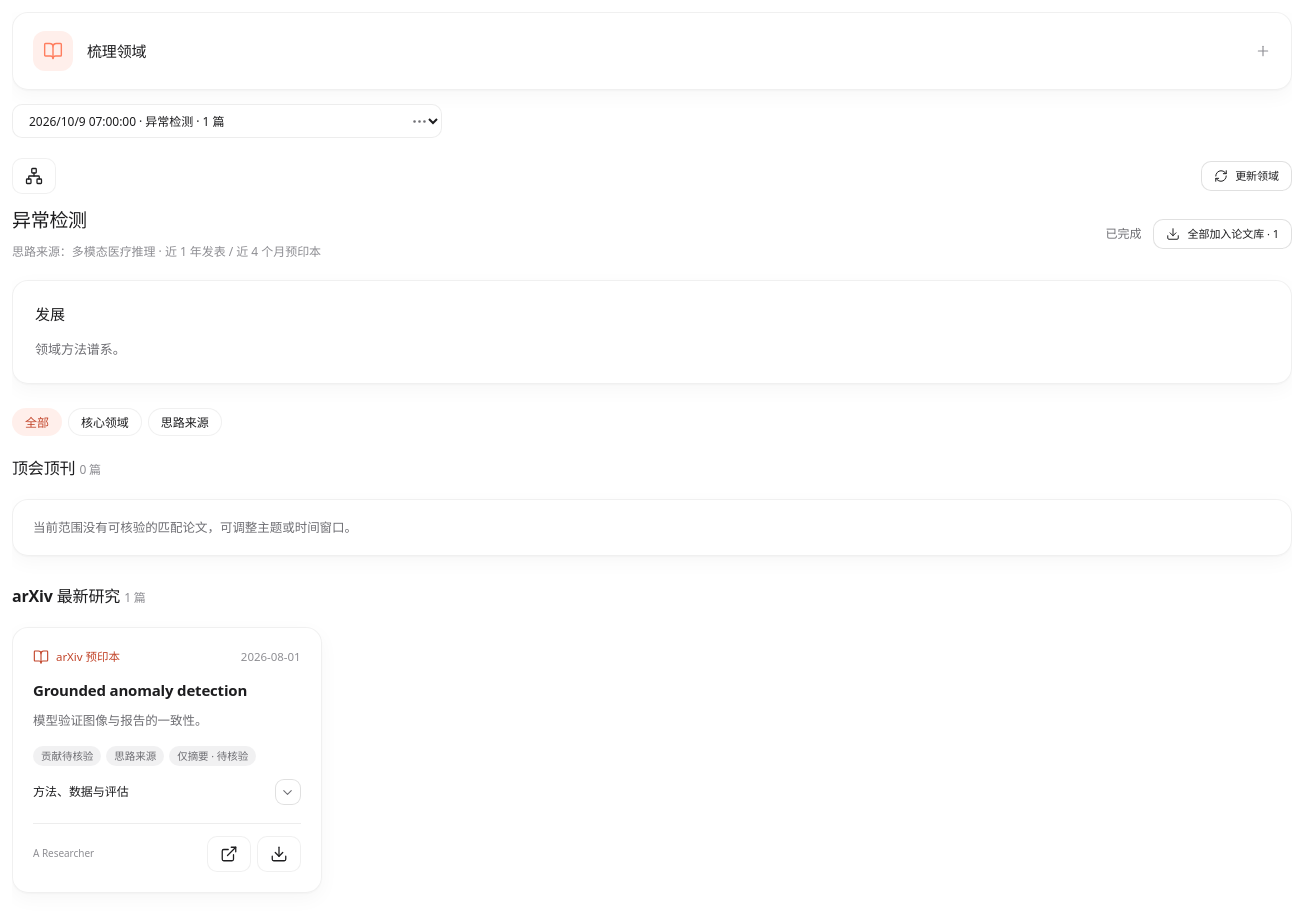
it: research discovery interaction › requires a full custom window before updating
Later steps or results of the test are not shown.
Click the button with class "research-update-trigger" at {"x": 1247, "y": 176}, box [1201,161,1292,191]
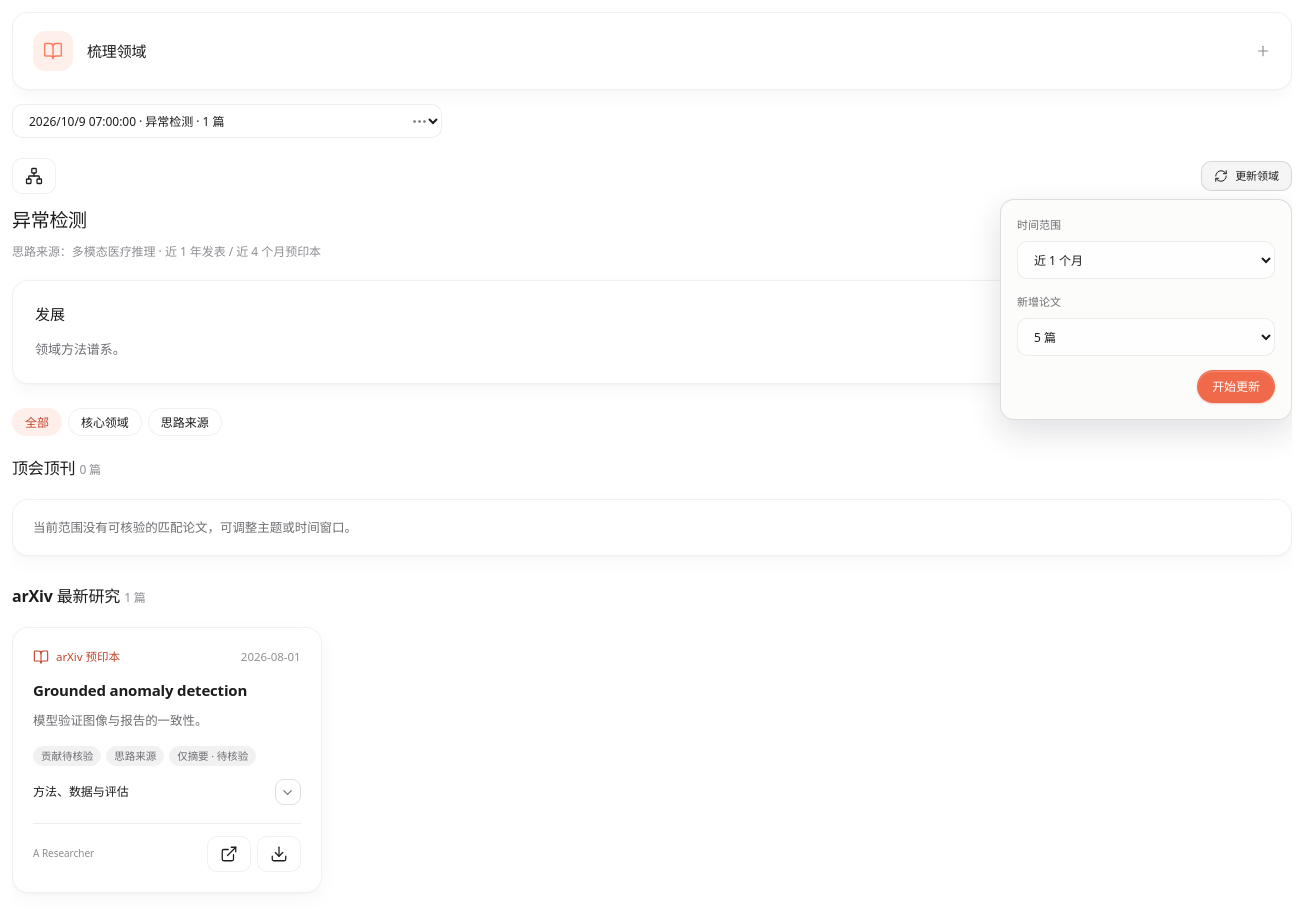
Select "自定义" in the dropdown named "更新时间范围" at {"x": 1146, "y": 260}, box [1017,241,1275,279]
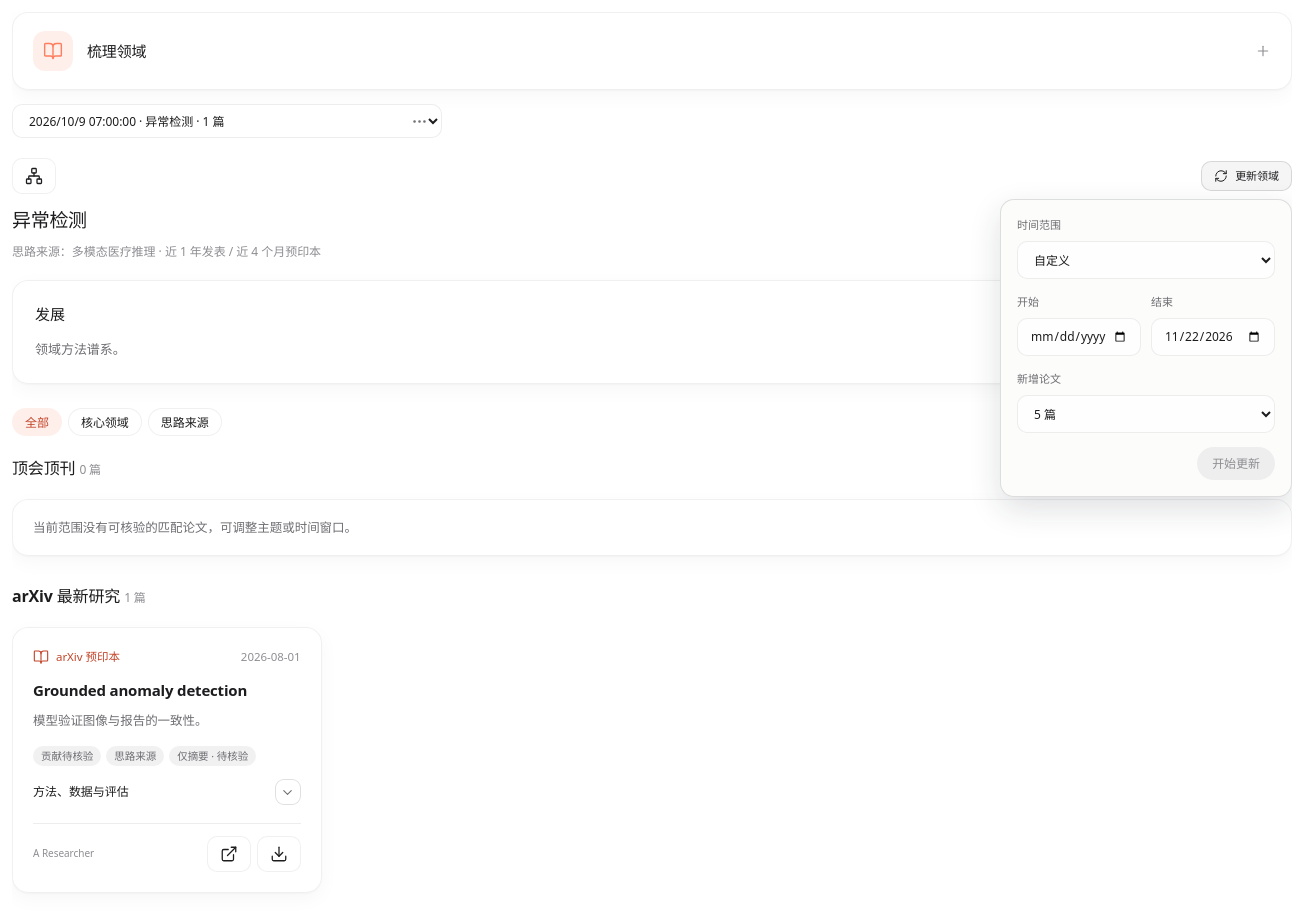
Now the number of date fields is 2, box [1017,318,1141,356]; [1151,318,1275,356]
Now the button "开始更新" is disabled, box [1197,447,1275,480]
